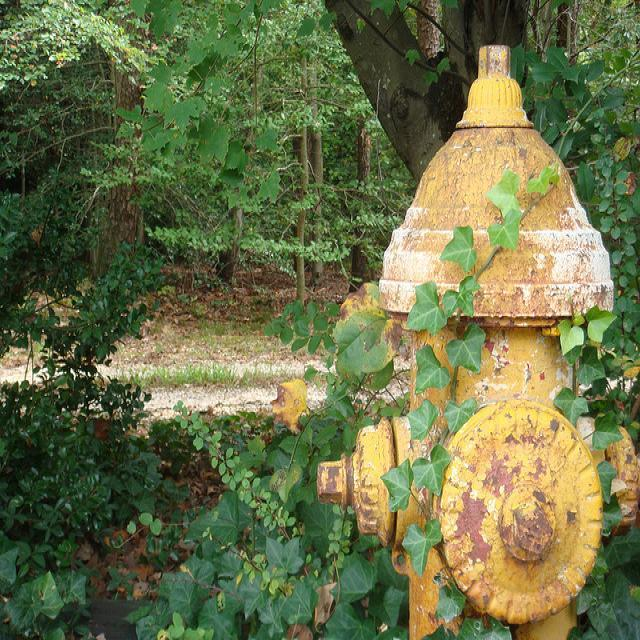fire_hydrant: (317, 44, 626, 631)
